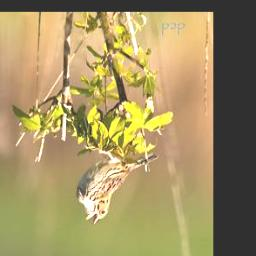Sparrow: (76, 147, 159, 227)
